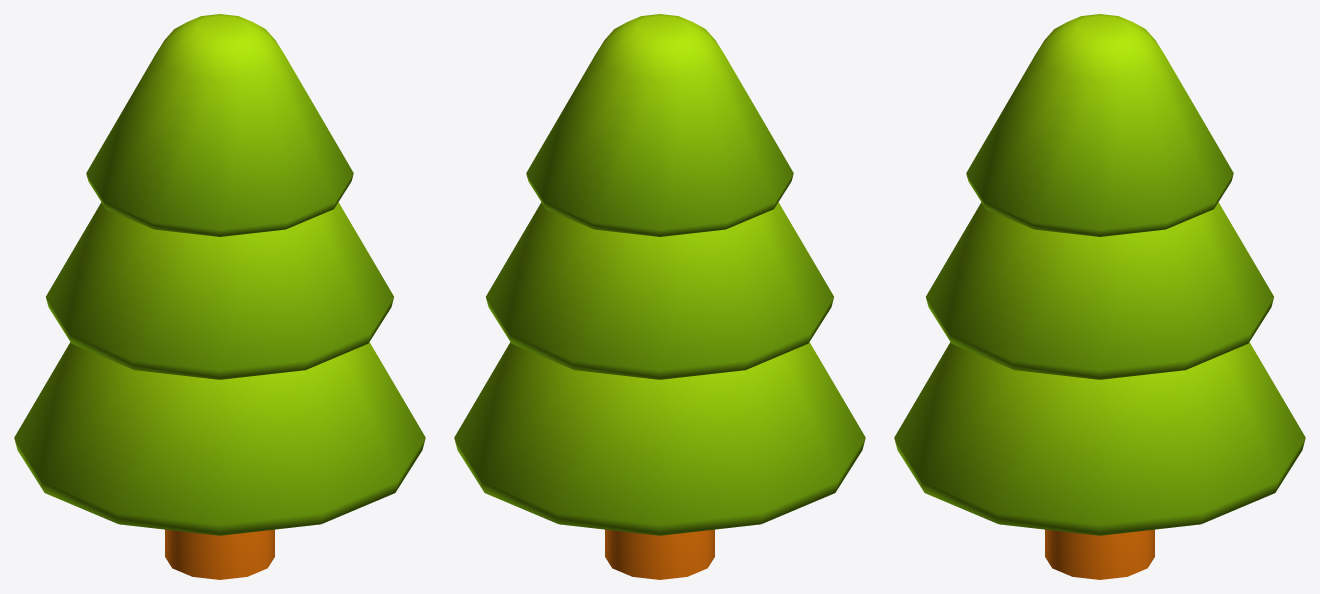
The model's file is Plant_Tree_01.fbx.
3 renders of one model, left to right at view 1: azimuth 30°, elevation 25°; view 2: azimuth 150°, elevation 25°; view 3: azimuth 270°, elevation 25°, orthographic.
Parts seen in each view (by area): view 1: Plant_Tree_01; view 2: Plant_Tree_01; view 3: Plant_Tree_01.
Part boxes in pixels (box(x1,y1,x2,y2)): Plant_Tree_01: box(14, 14, 425, 579); Plant_Tree_01: box(454, 14, 865, 579); Plant_Tree_01: box(894, 14, 1305, 579).
Size of the model in its own units: 200 by 284 by 200.
